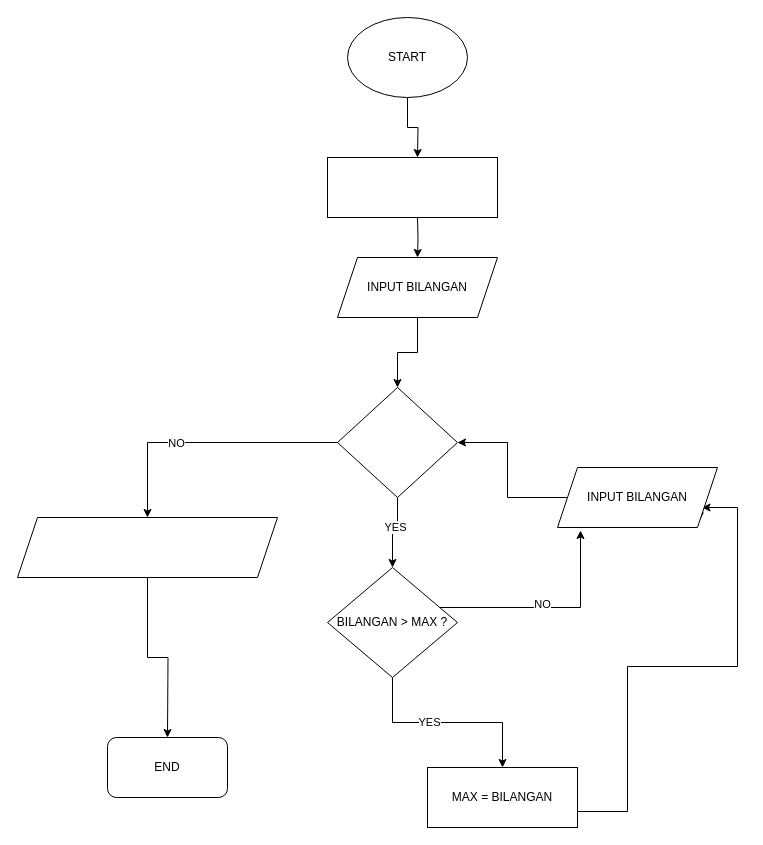
Image size: 763x845. Some labels were removed from this diagram. Here are the shapes that lost their labels. From the top down, the centre of each, then its label:
At pixel 412 187: "MAX = 0".
At pixel 397 442: "BILANGAN ! = 0".
At pixel 147 547: "OUTPUT 'BILANGAN TERBESAR : MAX'".
